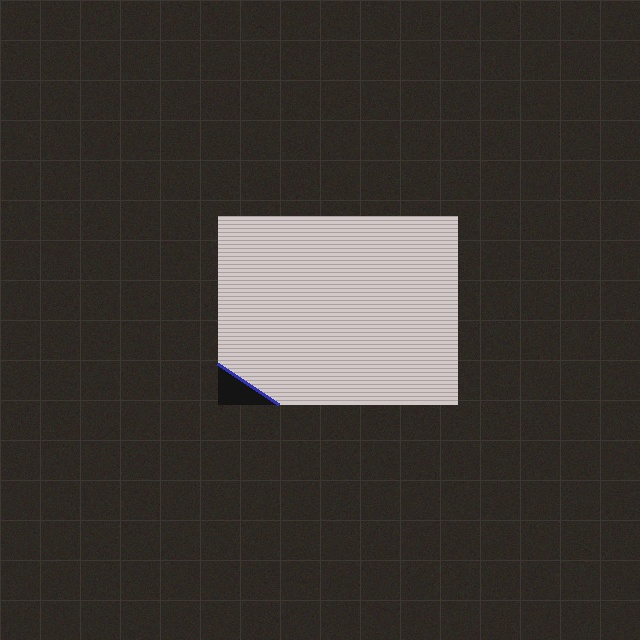warping: (208, 344, 298, 414)
